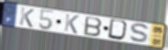5: (38, 8, 55, 32)
B: (83, 15, 103, 38)
D: (107, 18, 131, 42)
K: (18, 6, 36, 29), (63, 12, 80, 35)
S: (128, 23, 151, 45)
